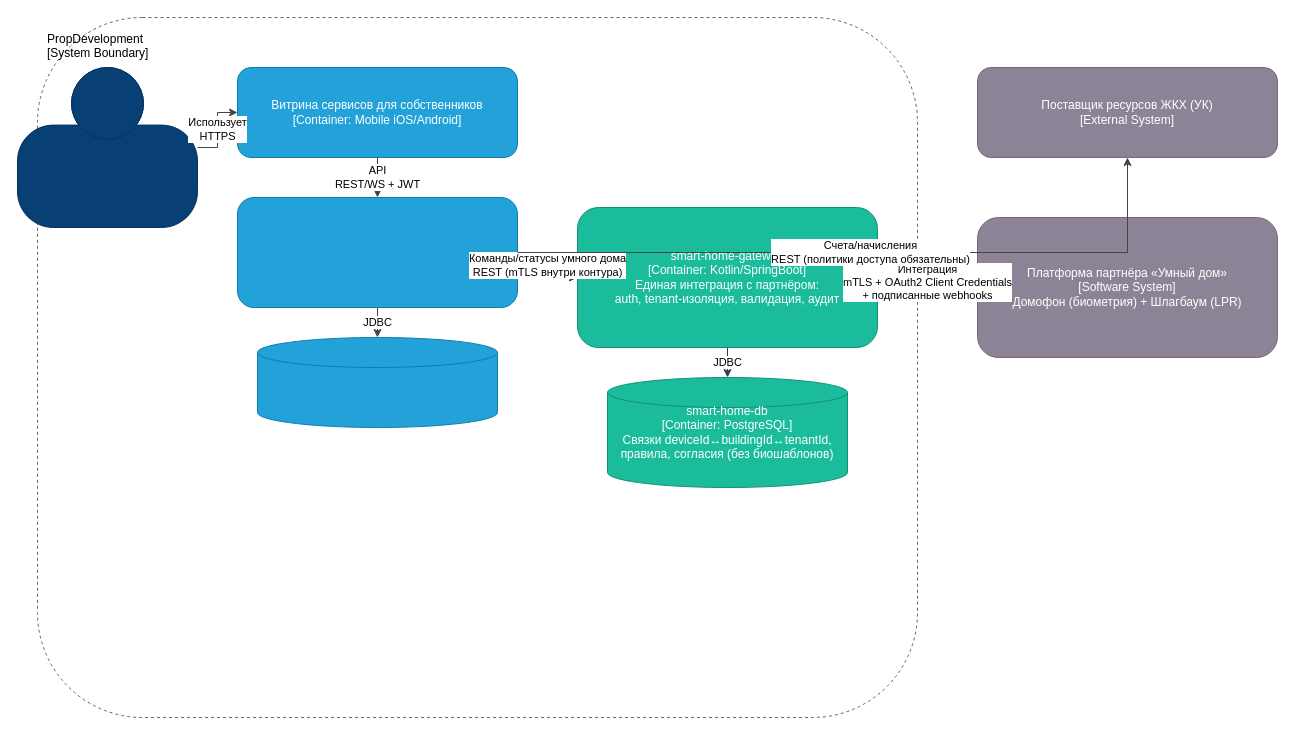
The diagram is 1295 pixels wide and 735 high, and some of its shapes have lost their labels. Here are the shapes that lost their labels. From the top down, the centre of each, then its label:
[107,147]: Собственник [Person]
[377,252]: tenant-core-app [Container: Kotlin/SpringBoot] Услуги собственникам
[377,382]: tenant-core-db [Container: PostgreSQL]
